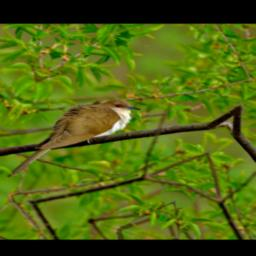Cuckoo: (4, 83, 144, 201)
